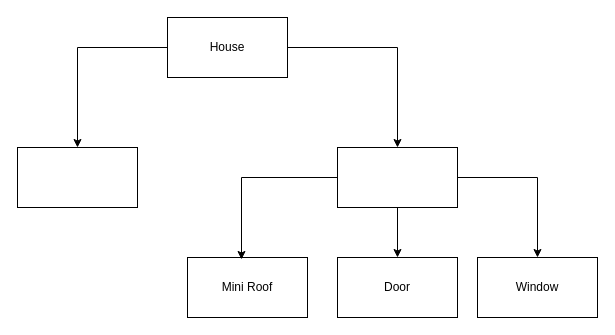
The diagram is 615 pixels wide and 335 high, and some of its shapes have lost their labels. The shapes that lost their labels are listed below. From the top down, each one's box as (x1, y1, x2, y2) in pixels, then its label:
(16, 146, 138, 208): Roof
(336, 146, 458, 208): HouseFront
